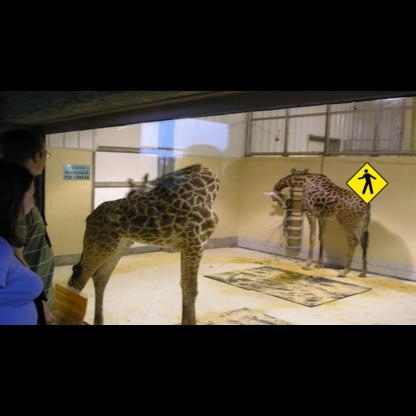A-32a: (346, 162, 388, 205)
I-E: (63, 164, 90, 180)
